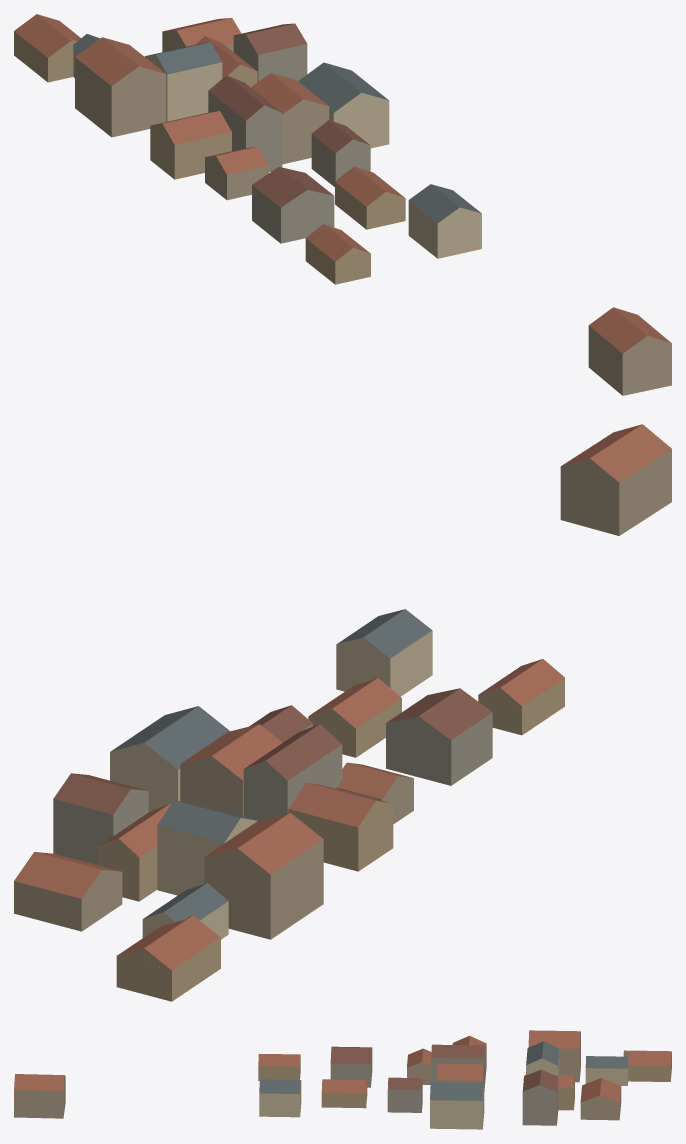
3 renders of one model, top to bottom at view 1: azimuth 30°, elevation 25°; view 2: azimuth 150°, elevation 25°; view 3: azimuth 270°, elevation 25°, orthographic. The views are drawn at different scales.
Parts seen in each view (by area): view 1: C_-4_2; view 2: C_-4_2; view 3: C_-4_2.
Boxes of the visible parts, x1,y1,x2,y2 form: C_-4_2: (14,14,671,395); C_-4_2: (14,424,671,1001); C_-4_2: (14,1030,671,1129).
Size of the model in its own units: 43 by 13.71 by 184.
